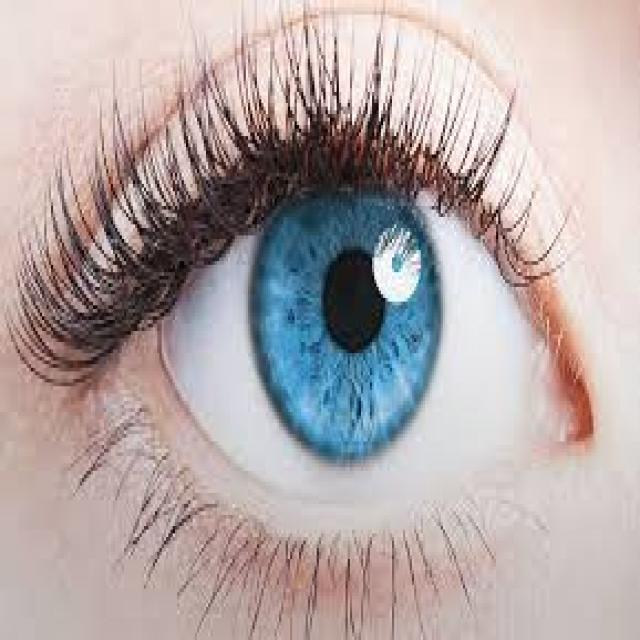Eyes-iris: (248, 162, 446, 481)
